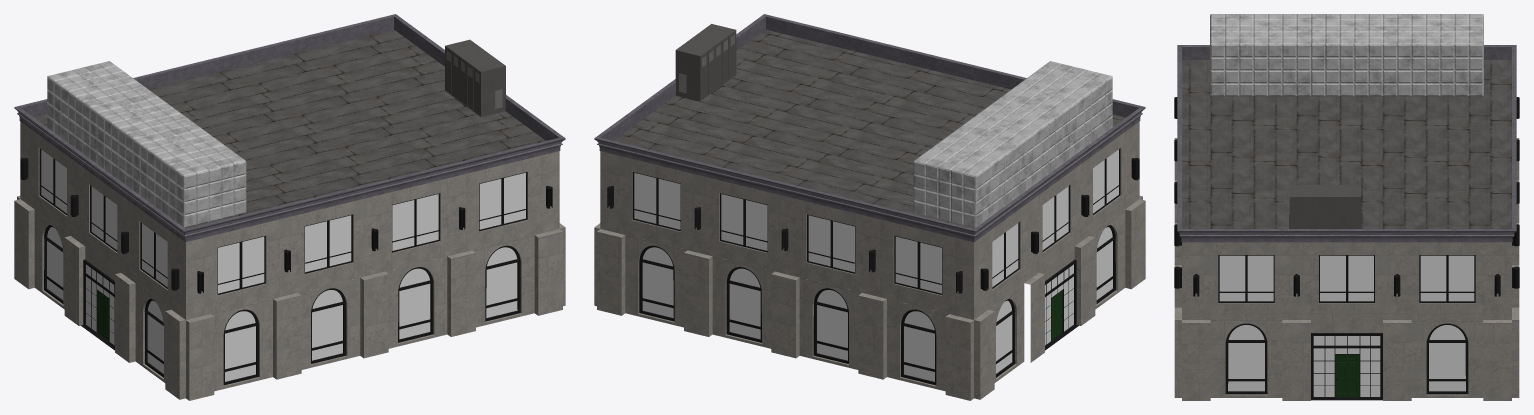
File: Building_29.fbx
3 renders of one model, left to right at view 1: azimuth 30°, elevation 25°; view 2: azimuth 150°, elevation 25°; view 3: azimuth 270°, elevation 25°, orthographic.
Visible parts, largest first — view 1: Building_29_LOD0; view 2: Building_29_LOD0; view 3: Building_29_LOD0.
Boxes of the visible parts, x1,y1,x2,y2 form: Building_29_LOD0: (14, 14, 565, 400); Building_29_LOD0: (594, 14, 1145, 400); Building_29_LOD0: (1174, 14, 1519, 400).
Size of what is drawn, in the model's own units: 1909 by 983 by 1468.
